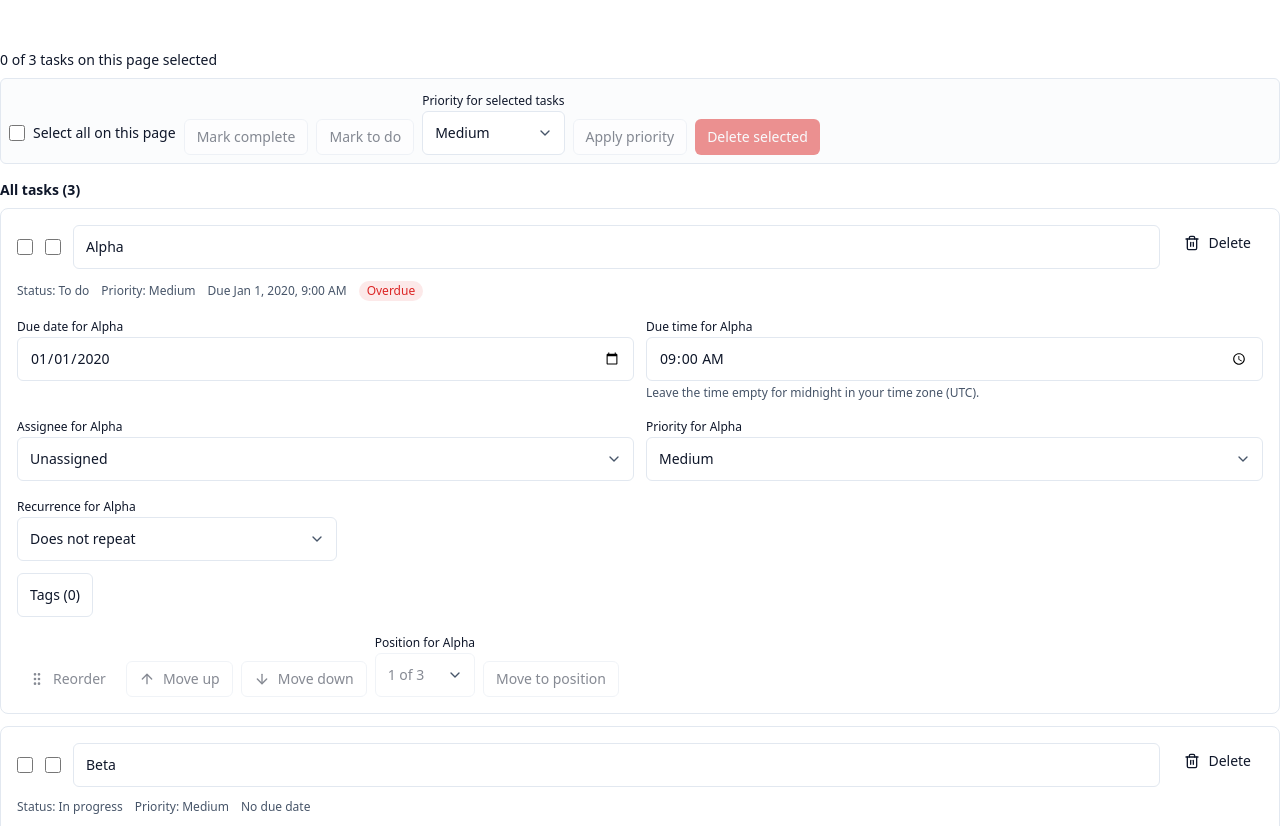
Test: TaskListView › pages forward without reusing the server-rendered first page, and drops the selection
What coordinates should you click on to do the following:
click the checkbox named "Select all tasks on this page"
I would click on:
 (17, 133)
Its box is [9,125,25,141].
(page scrolled)
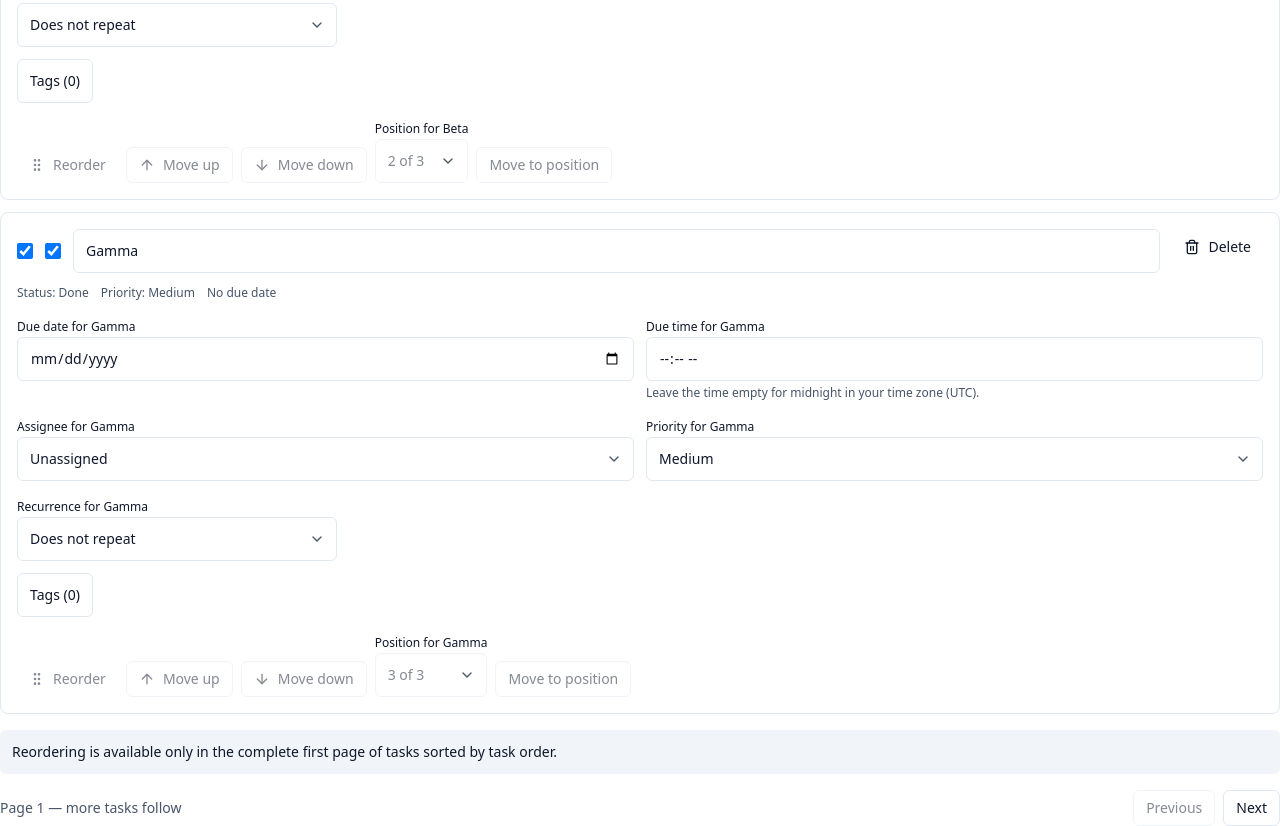
What coordinates should you click on to do the following:
click the button "Next"
I would click on:
 (1252, 808)
Its box is [1223,790,1279,825].
(page scrolled)
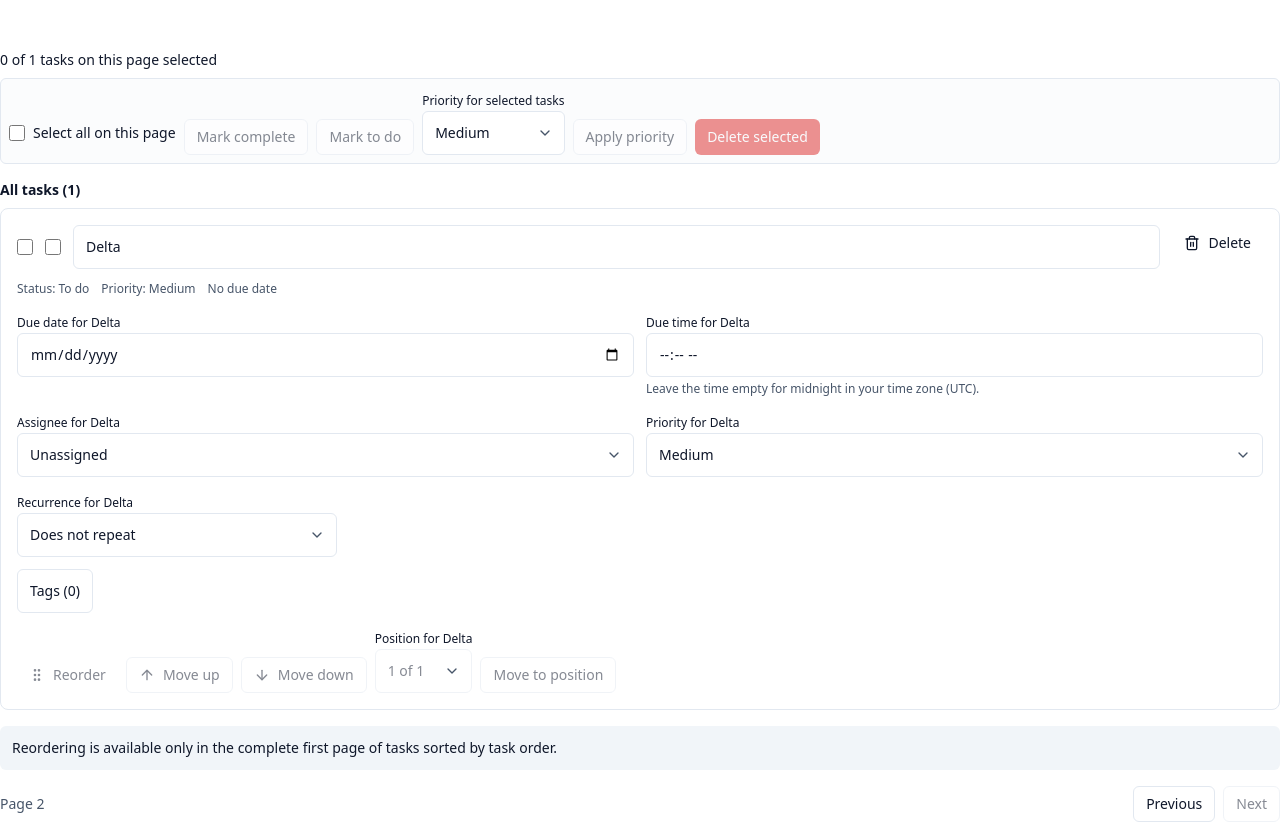
Now the field showing "Delta" is shown, box [73,225,1160,269]
Now the text "0 of 1 tasks on this page selected" is shown, box [0,50,217,69]
Now the button "Next" is disabled, box [1223,786,1279,822]
What coordinates should you click on to do the following:
click the button "Previous"
I would click on:
 (1174, 804)
Its box is [1133,786,1215,822].
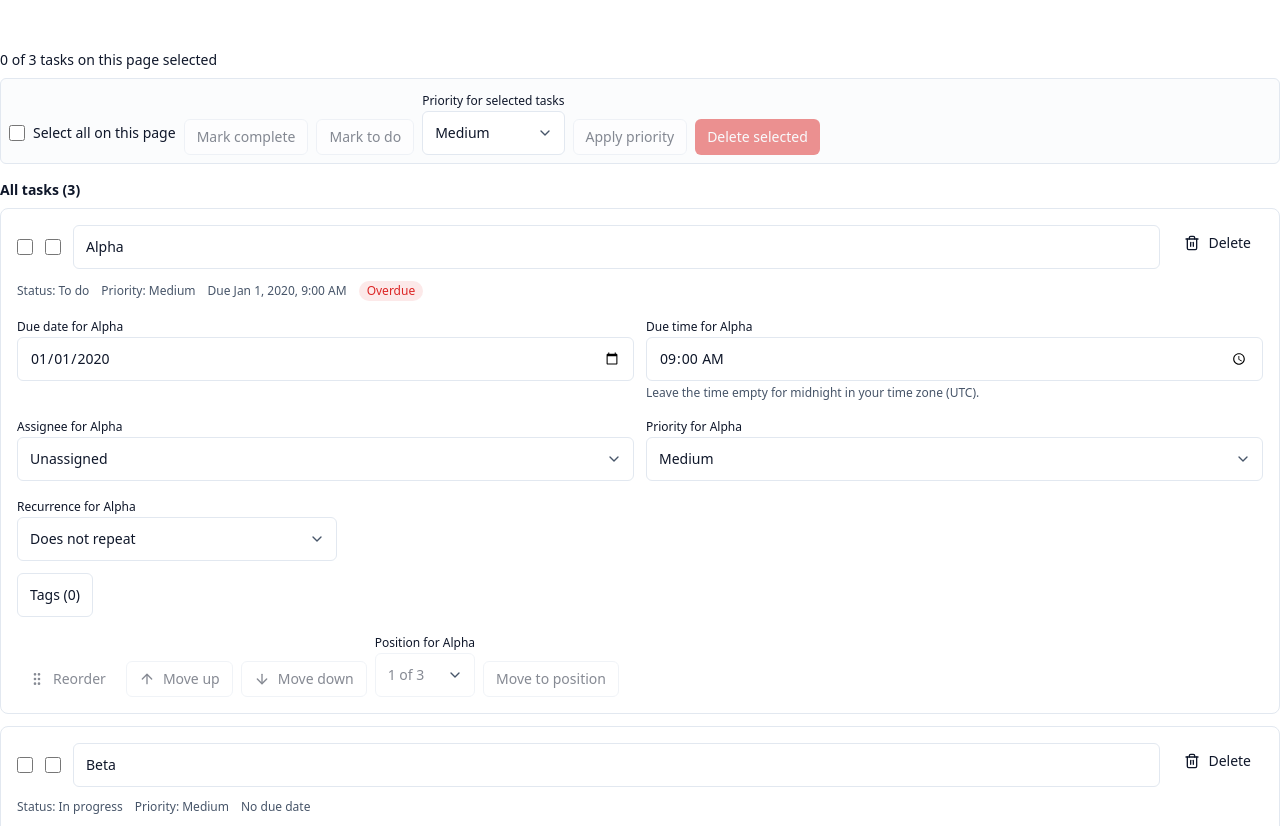
Now the 1st field showing "Alpha" is shown, box [73,225,1160,269]
